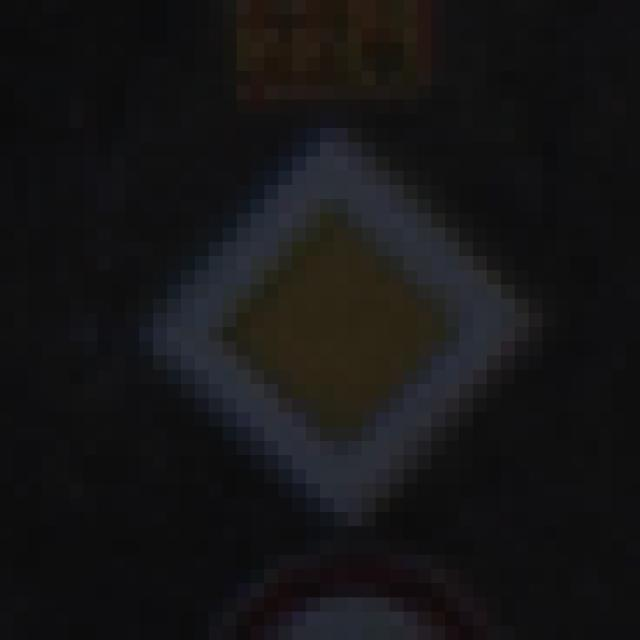Main Road: (85, 86, 572, 570)
